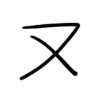nu: (16, 20, 83, 83)
